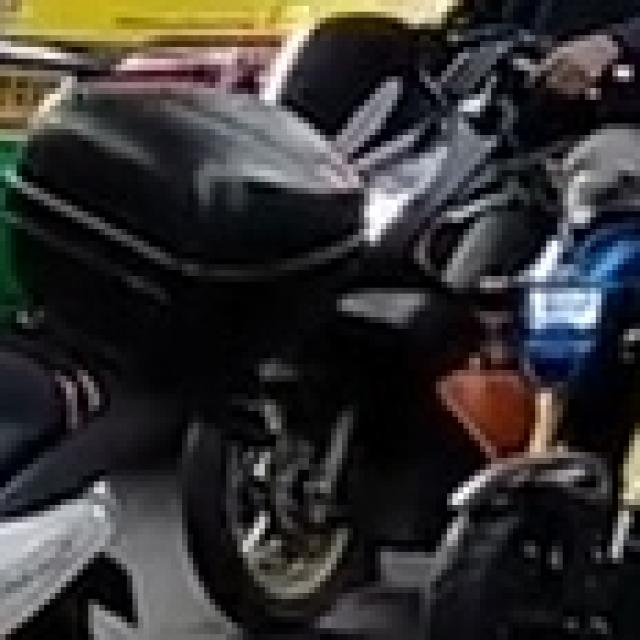door: (0, 0, 634, 634)
tyre: (177, 364, 375, 634)
